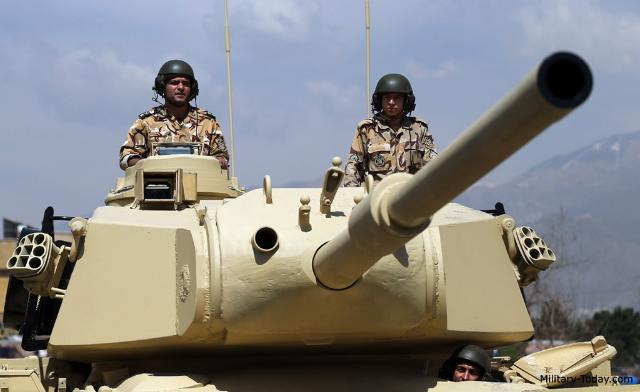other: (120, 59, 230, 156), (349, 75, 431, 166), (448, 343, 488, 382)
tank: (14, 148, 586, 385)
